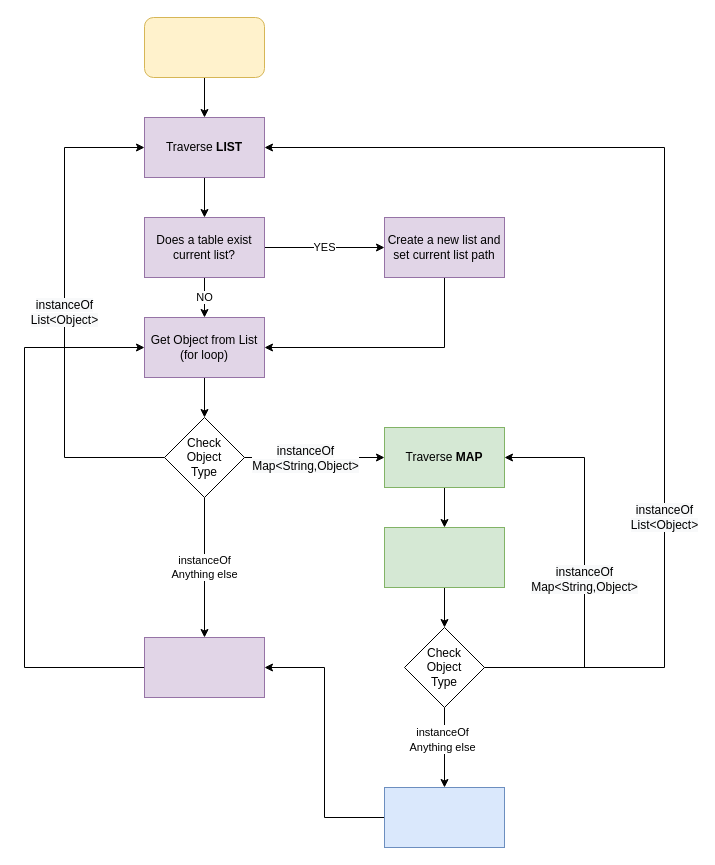
The diagram is 715 pixels wide and 865 high, and some of its shapes have lost their labels. The centre of each missing label's shape, as x and y in pixels:
"Add Row to Table" goes at (x=204, y=667).
"Get Child Object for each Map Key" goes at (x=444, y=557).
"List<SObject>" goes at (x=204, y=47).
"Populate Row" goes at (x=444, y=817).
